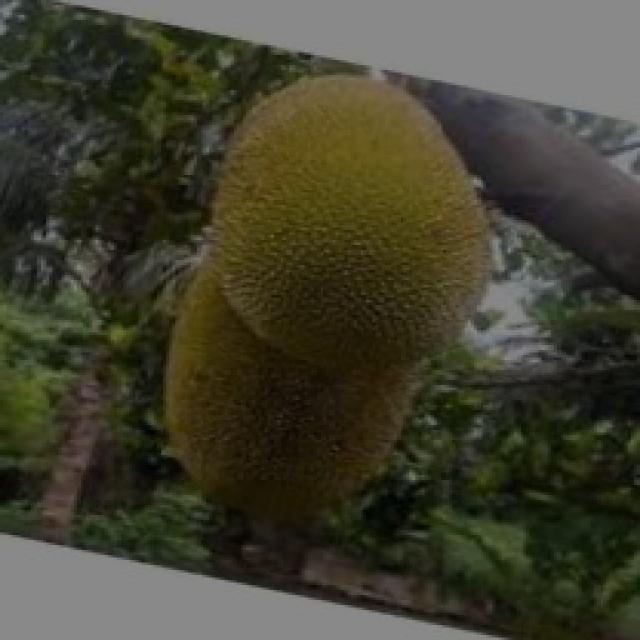Fruit: (157, 35, 535, 400)
